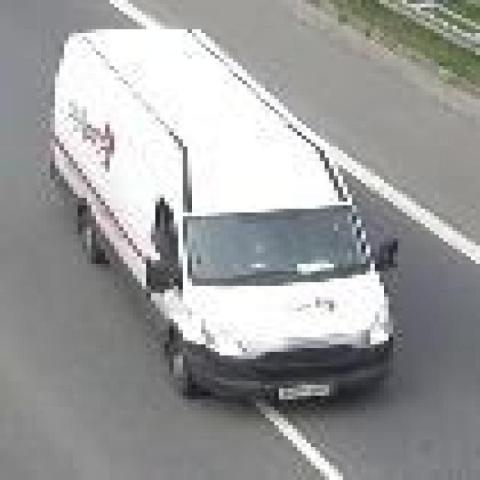van: (52, 31, 386, 398)
